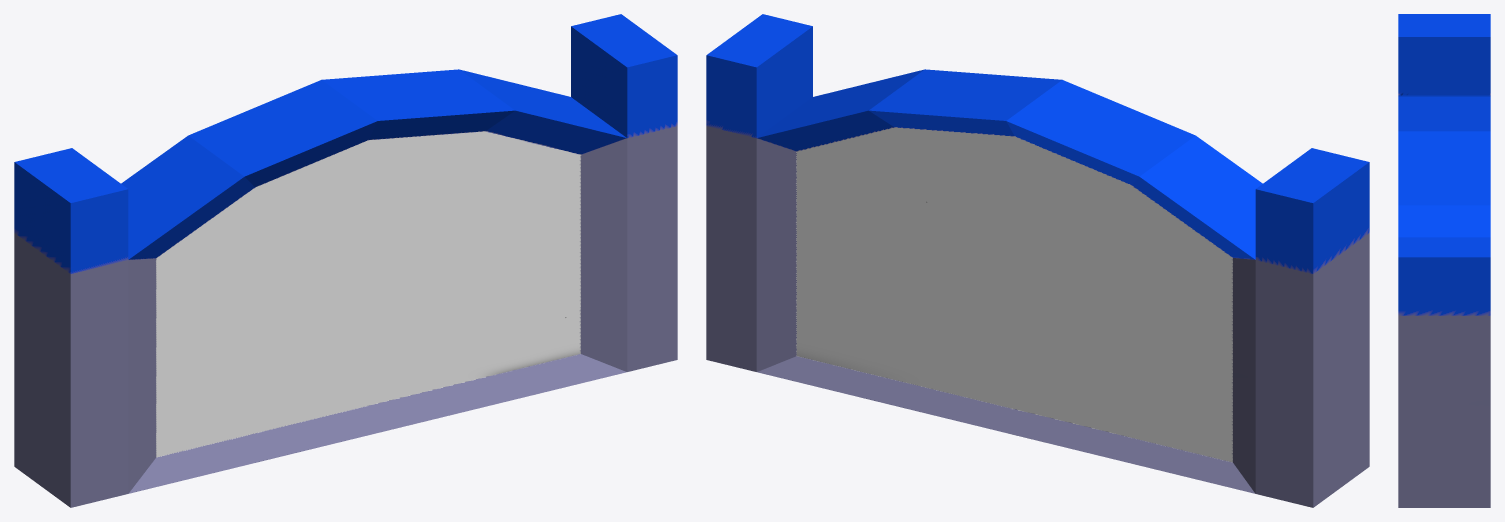
Rendered from obstacle_7.obj.
The picture shows the model from 3 angles, left to right: view 1: azimuth 30°, elevation 25°; view 2: azimuth 150°, elevation 25°; view 3: azimuth 270°, elevation 25°; orthographic projection. The views are drawn at different scales.
Parts seen in each view (by area): view 1: Cube_Cube.005; view 2: Cube_Cube.005; view 3: Cube_Cube.005.
Part boxes in pixels (bbox=[...]): Cube_Cube.005: bbox=[14, 14, 677, 507]; Cube_Cube.005: bbox=[706, 14, 1369, 507]; Cube_Cube.005: bbox=[1398, 14, 1490, 507].
Size of the model in its own units: 2 by 0.9828 by 0.3213.
